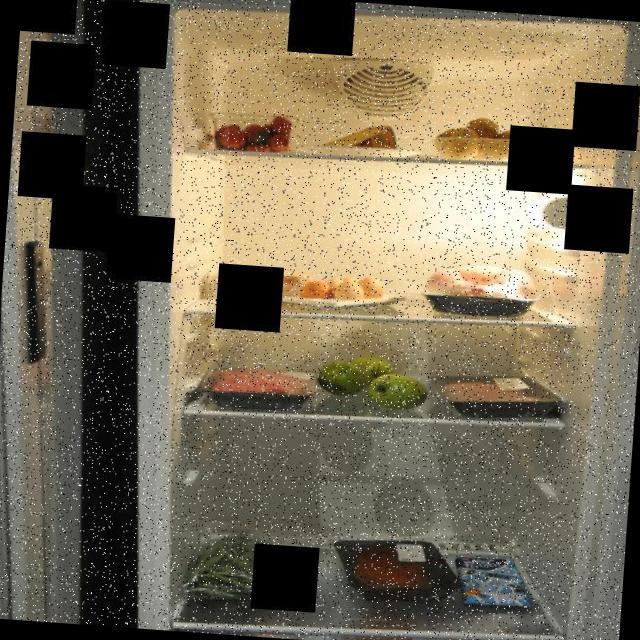Carne pollo: (416, 249, 546, 323), (421, 365, 567, 426)
Carne vacuno: (325, 530, 469, 610)
Huevos: (296, 270, 385, 311)
Manzana: (310, 344, 436, 420)
Patata: (422, 109, 564, 168)
Queso: (311, 114, 405, 160)
